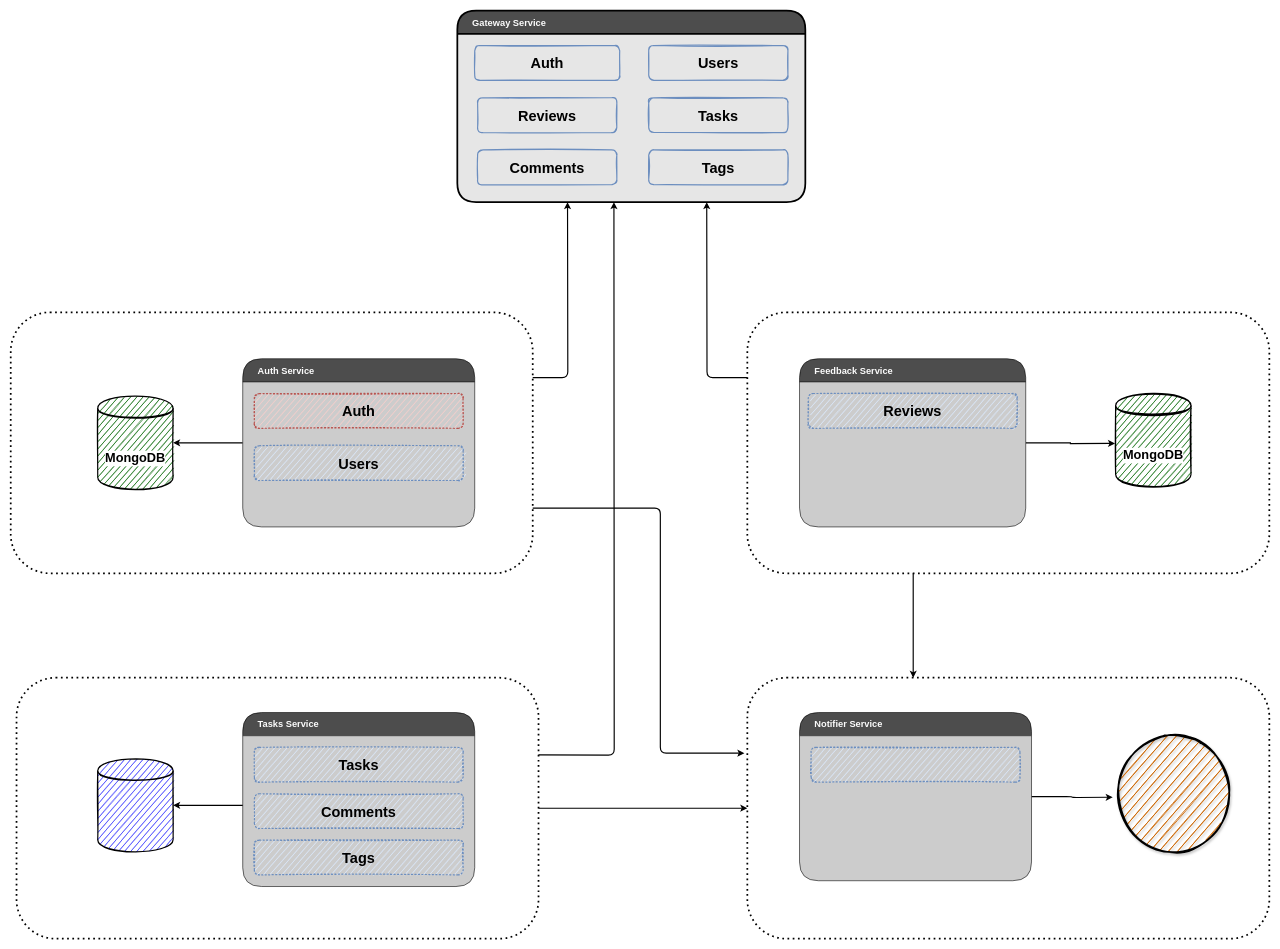
This 1280x949 diagram has some shape labels left out. Each missing label, with the centre of its shape:
"Emails" goes at point (915, 764).
"PostgreSQL" goes at point (135, 805).
"RabbitMQ" goes at point (1174, 794).
